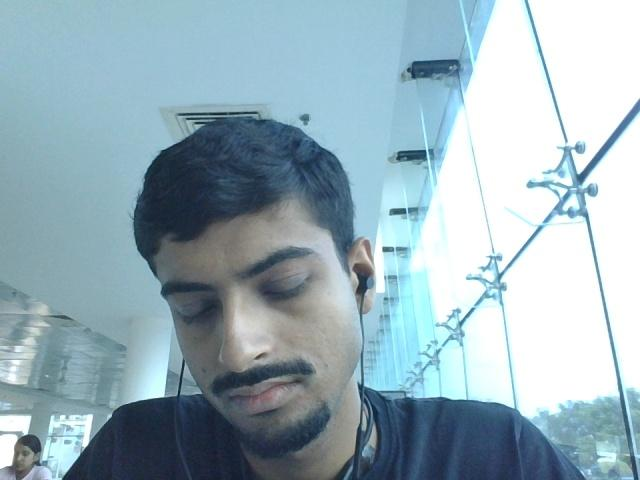nervous: (118, 112, 426, 437)
